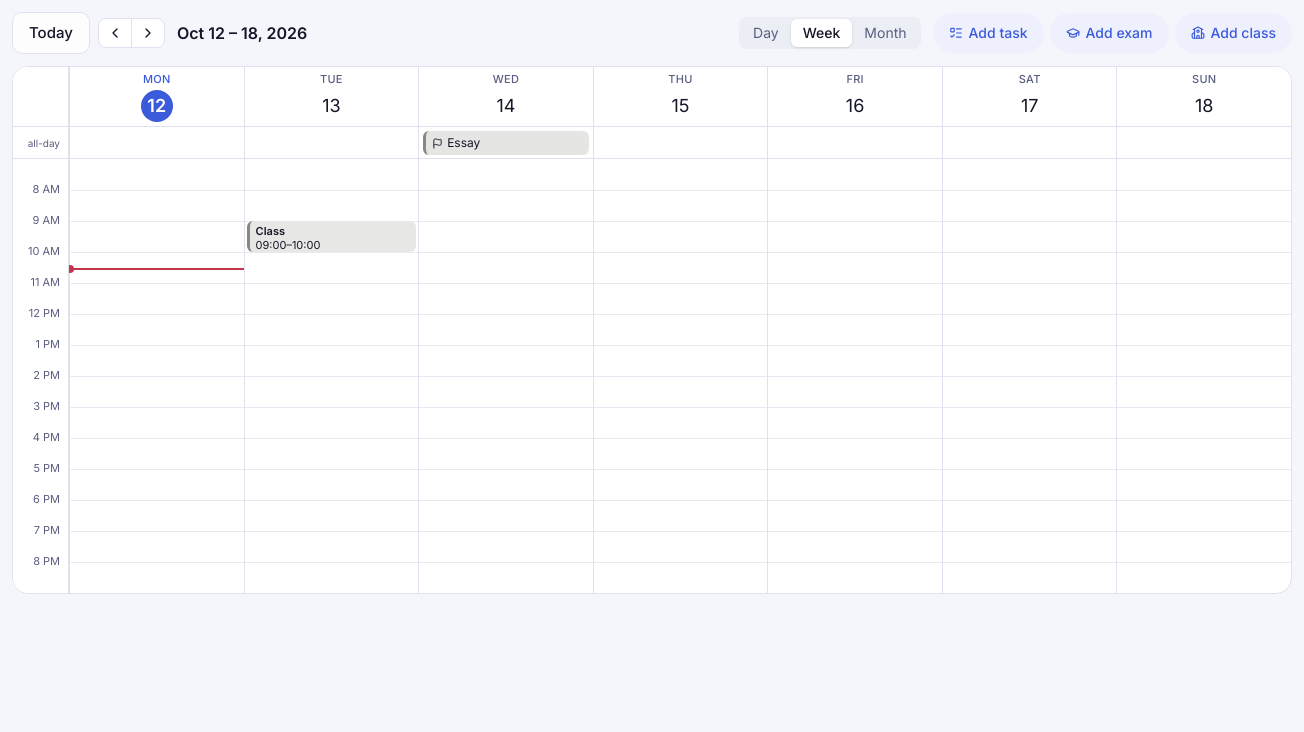
Test: CalendarView › adding › with no course yet, Add class says to add a course first instead of opening a dialog
Click the button "Add class" at [1233, 33], box [1174,13,1292,53]
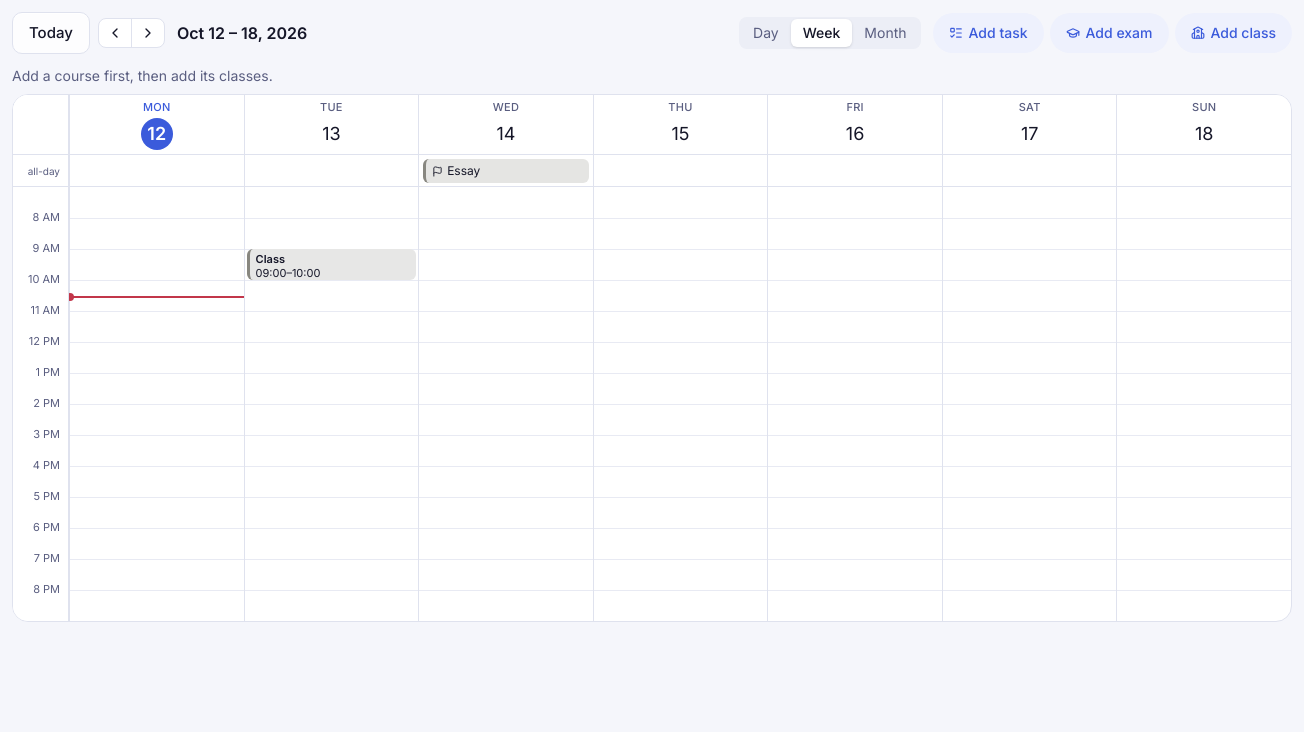
Result: the message shows "Add a course first" at [12,67,273,84]
